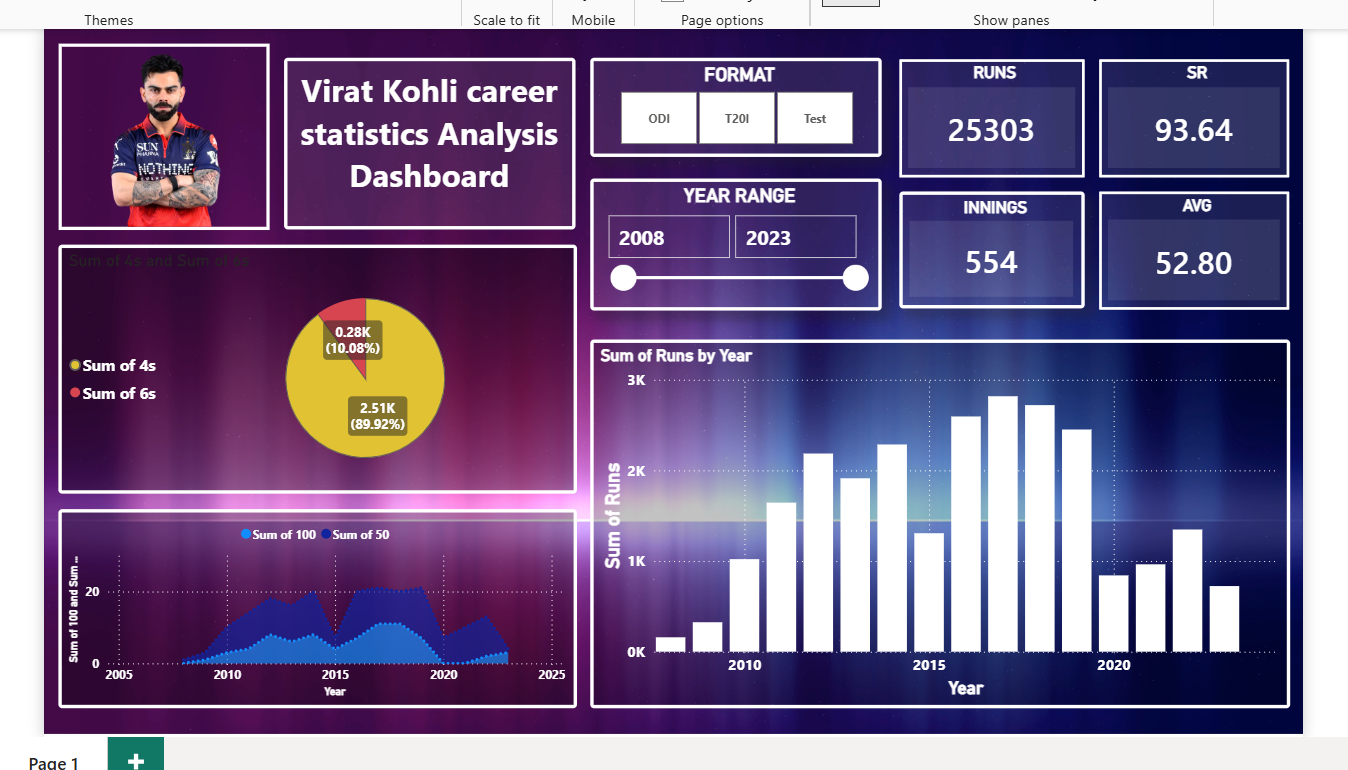

Layout of this report page (visuals, bound fields, positions):
{"tool":"powerbi","page":{"name":"Page 1","canvas":[1280,720],"ordinal":0},"visuals":[{"type":"image","box":[14,14,214.6,190.2],"z":0},{"type":"textbox","box":[244.3,29.7,296.6,174.5],"z":1},{"type":"cardVisual","title":"INNINGS","fields":{"Data":["Sum(Sheet1.Innings)"]},"box":[869,165.8,188.5,118.7],"z":2},{"type":"cardVisual","title":"RUNS","fields":{"Data":["Sum(Sheet1.Runs)"]},"box":[869,31.4,188.5,120.4],"z":3},{"type":"cardVisual","title":"AVG","fields":{"Data":["Avg(Sheet1.Avg)"]},"box":[1073.1,165.8,193.7,120.4],"z":5},{"type":"cardVisual","title":"SR","fields":{"Data":["Avg(Sheet1.SR)"]},"box":[1073.1,31.4,193.7,120.4],"z":6},{"type":"slicer","title":"FORMAT","fields":{"Values":["Sheet1.Format"]},"box":[554.9,29.7,296.6,101.2],"z":7},{"type":"slicer","title":"YEAR RANGE","fields":{"Values":["Sheet1.Year"]},"box":[554.9,151.8,296.6,134.4],"z":8},{"type":"clusteredColumnChart","fields":{"Y":["Sum(Sheet1.Runs)"],"Category":["Sheet1.Year"]},"box":[554.9,315.8,711.9,375.2],"z":9},{"type":"pieChart","fields":{"Y":["Sum(Sheet1.4s)","Sum(Sheet1.6s)"]},"box":[14,219.9,527,253],"z":10},{"type":"stackedAreaChart","fields":{"Y":["Sum(Sheet1.100)","Sum(Sheet1.50)"],"Category":["Sheet1.Year"]},"box":[14,488.6,527,202.4],"z":11}]}

Visuals, with their boxes on the page's 1280x720 design canvas (x1, y1, x2, y2). These are canvas units, not pixel positions in the 1348x770 screenshot, which may show the page scaled, cropped or inside an application window:
image: Rect(14, 14, 229, 204)
textbox: Rect(244, 30, 541, 204)
"INNINGS" cardVisual: Rect(869, 166, 1058, 284)
"RUNS" cardVisual: Rect(869, 31, 1058, 152)
"AVG" cardVisual: Rect(1073, 166, 1267, 286)
"SR" cardVisual: Rect(1073, 31, 1267, 152)
"FORMAT" slicer: Rect(555, 30, 852, 131)
"YEAR RANGE" slicer: Rect(555, 152, 852, 286)
clusteredColumnChart - Sum(Sheet1.Runs) x Sheet1.Year: Rect(555, 316, 1267, 691)
pieChart - Sum(Sheet1.4s) x Sum(Sheet1.6s): Rect(14, 220, 541, 473)
stackedAreaChart - Sum(Sheet1.100) x Sum(Sheet1.50): Rect(14, 489, 541, 691)
